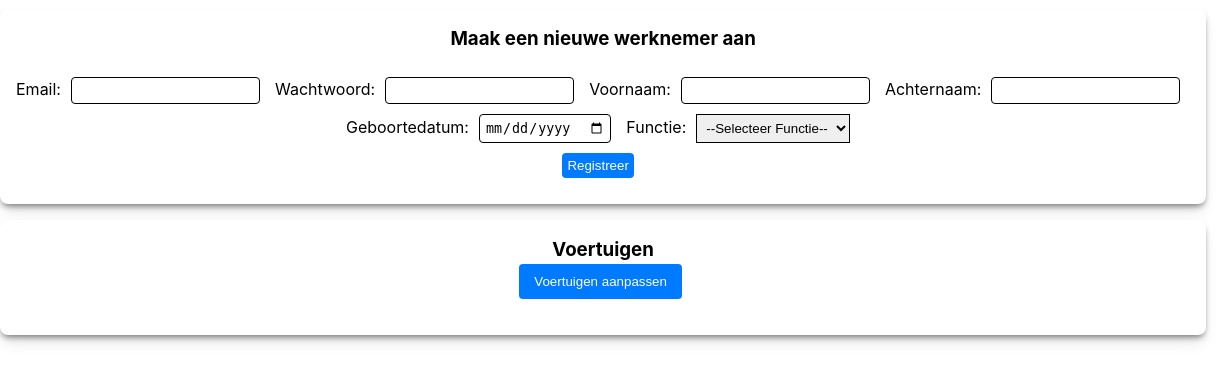
Test: DashboardBackoffice › should add a new employee
Type "test@example.com" into the field labelled "Email:" at (166, 91), box left=71, top=77, right=260, bottom=104
Type "password123" into the password field labelled "Wachtwoord:" at (480, 91), box left=385, top=77, right=574, bottom=104
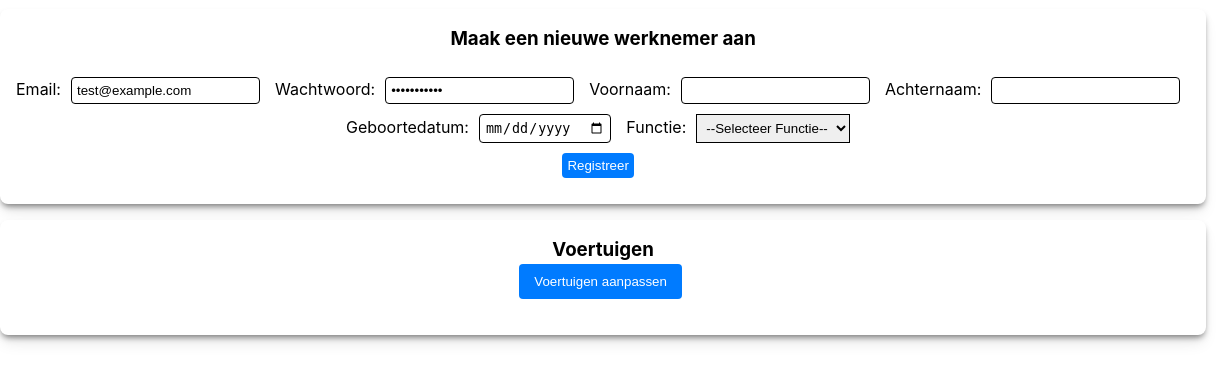
Type "John" into the field labelled "Voornaam:" at (775, 91), box left=681, top=77, right=870, bottom=104
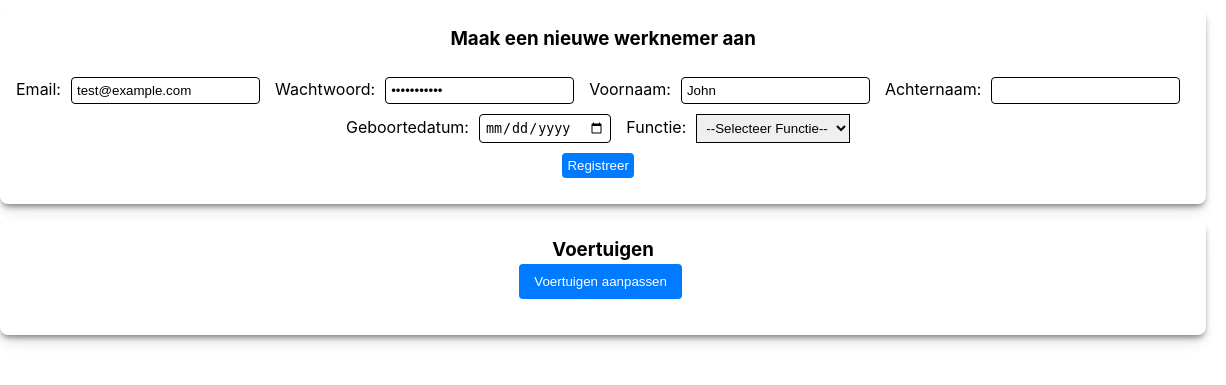
Type "Doe" into the field labelled "Achternaam:" at (1086, 91), box left=991, top=77, right=1180, bottom=104
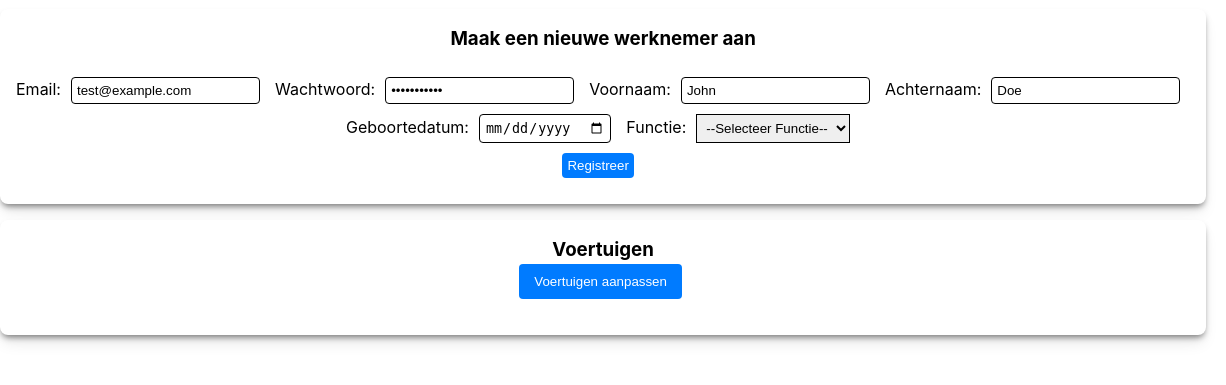
Type "1990-01-01" into the date field labelled "Geboortedatum:" at (545, 129), box left=479, top=114, right=611, bottom=143
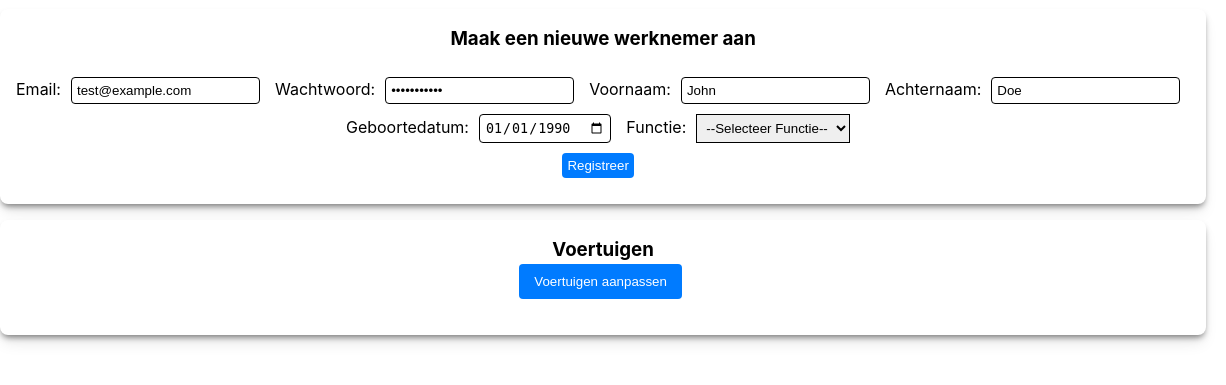
Select "Back Office" in the dropdown labelled "Functie:" at (773, 129), box left=696, top=114, right=850, bottom=143
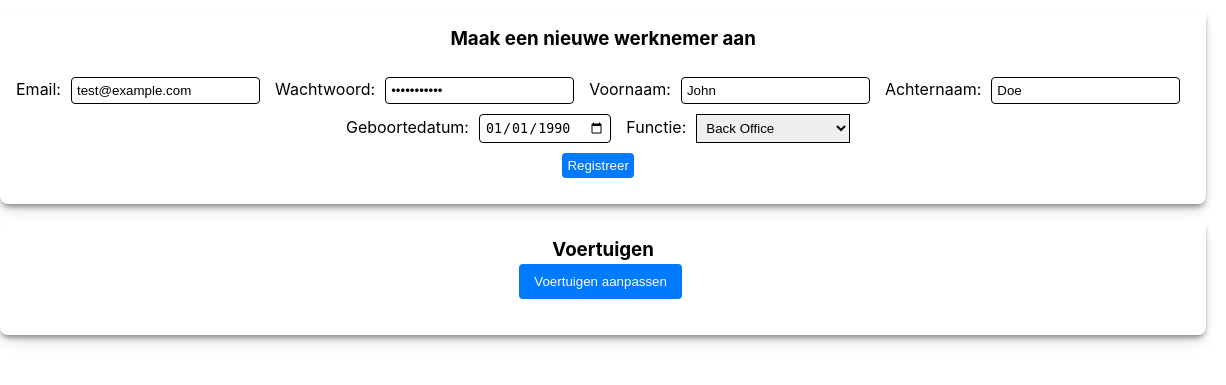
Click the button "Registreer" at (598, 166), box left=562, top=153, right=634, bottom=178
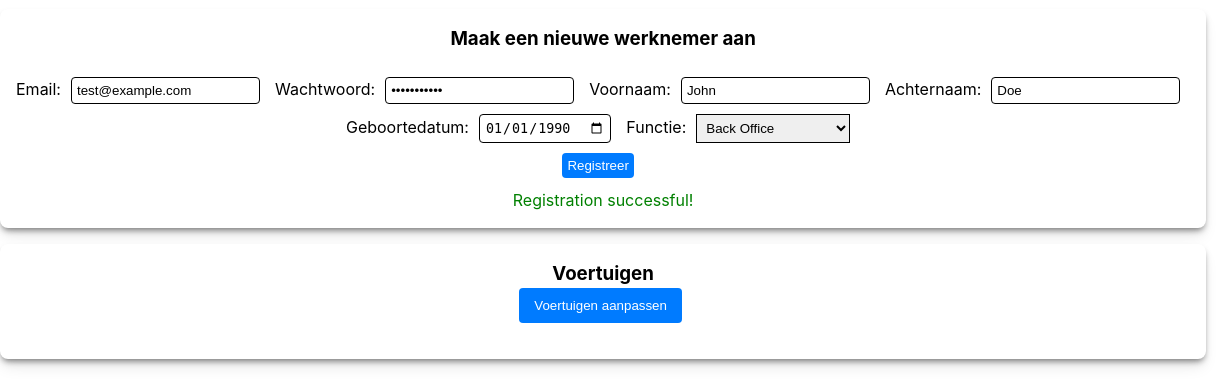
Expected: the text "Registration successful!" is shown, left=513, top=188, right=694, bottom=212
